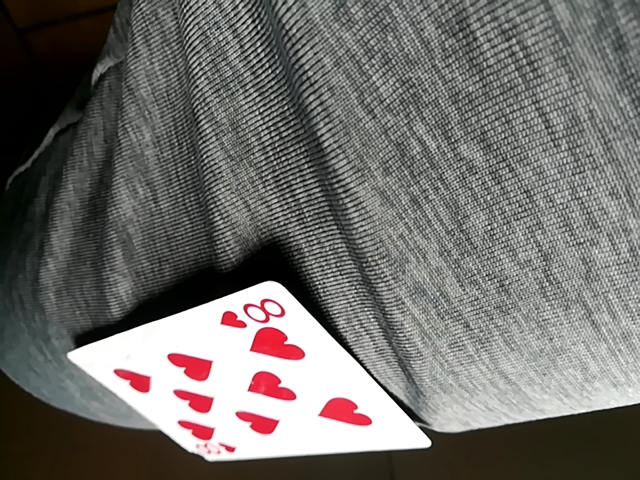hx 8: (67, 286, 431, 461)
